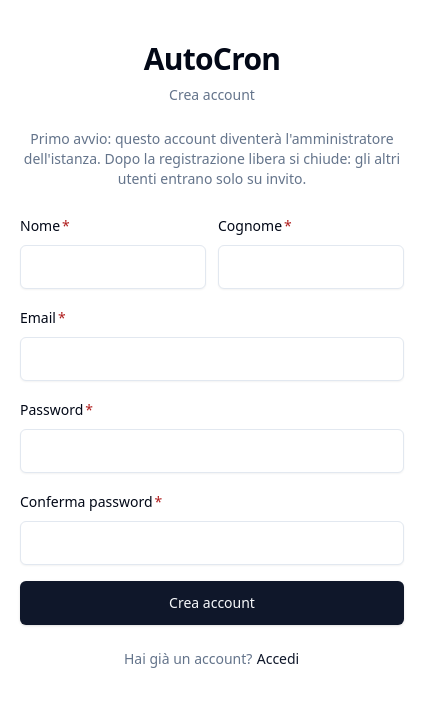
RegisterPage — errori del server › un errore non di validazione mostra l'alert generico
Type "Anna" into the field labelled "Nome*".
click(113, 267); type("Anna")  # box [20,245,206,289]
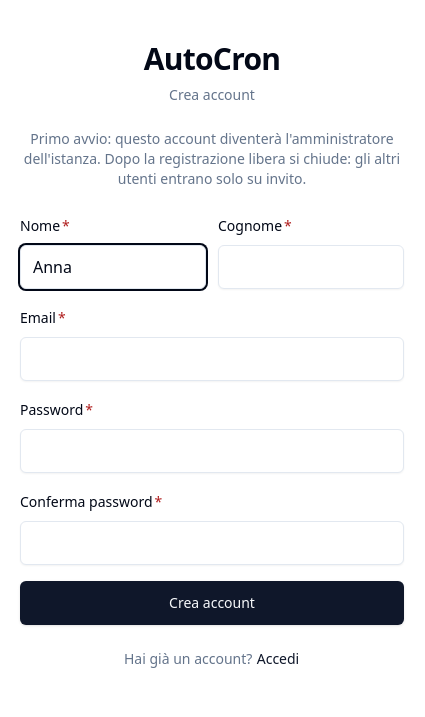
Type "Neri" into the field labelled "Cognome*".
click(311, 267); type("Neri")  # box [218,245,404,289]
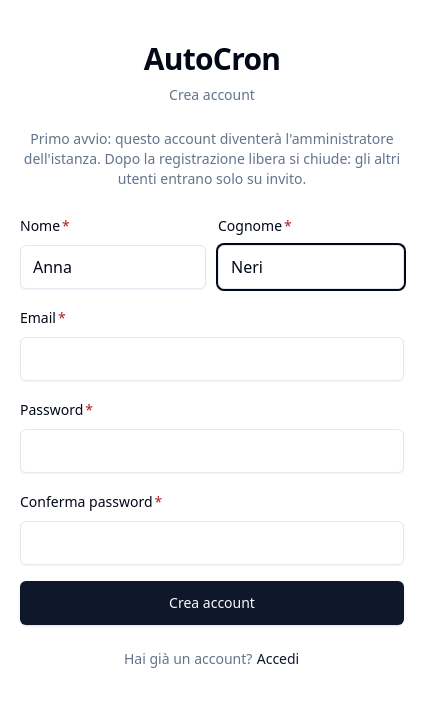
Type "anna@test.it" into the field labelled "Email*".
click(212, 359); type("anna@test.it")  # box [20,337,404,381]
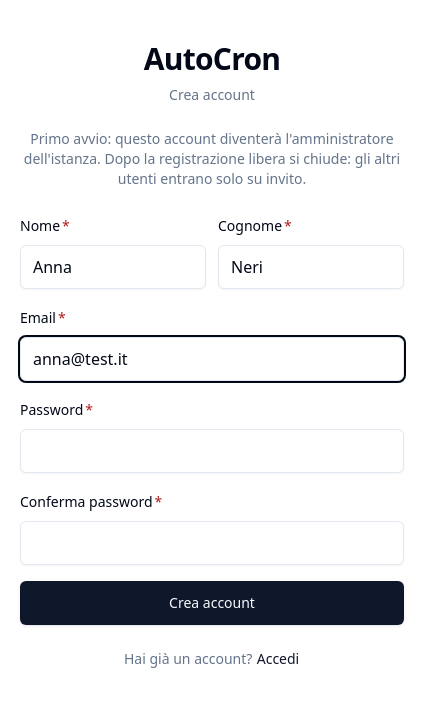
Type "segreta-123" into the password field labelled "Password*".
click(212, 451); type("segreta-123")  # box [20,429,404,473]
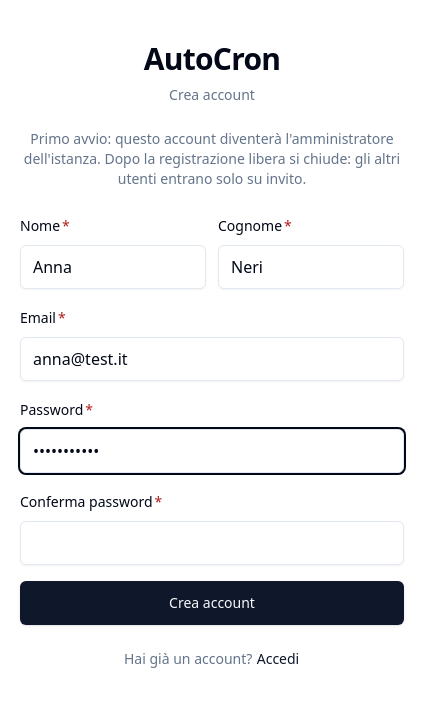
Type "segreta-123" into the password field labelled "Conferma password*".
click(212, 543); type("segreta-123")  # box [20,521,404,565]
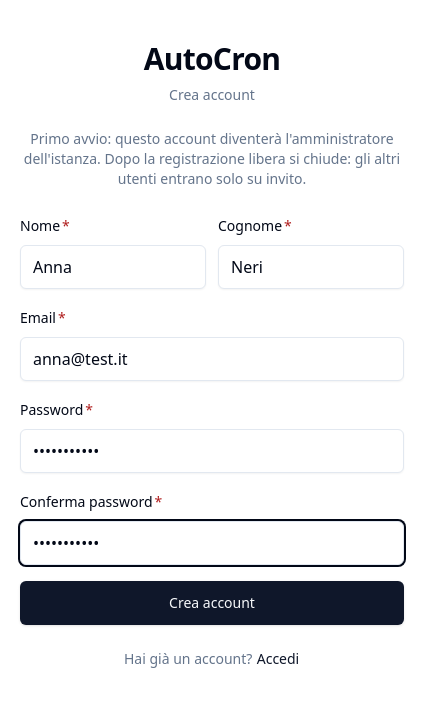
Click the button "Crea account".
click(212, 603)  # box [20,581,404,625]
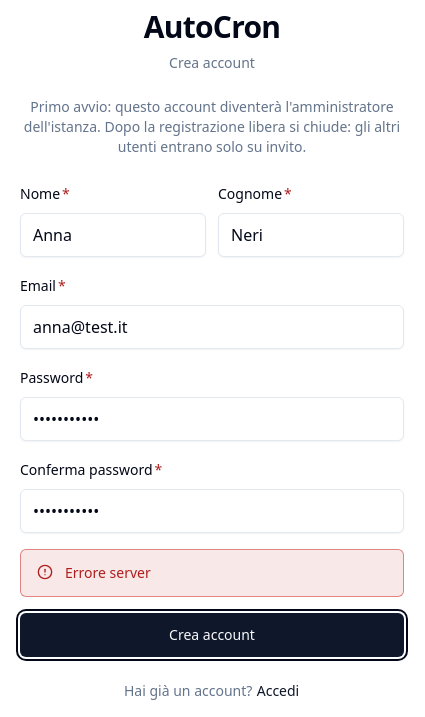
Now the message "Errore server" is shown, box [20,549,404,597]
